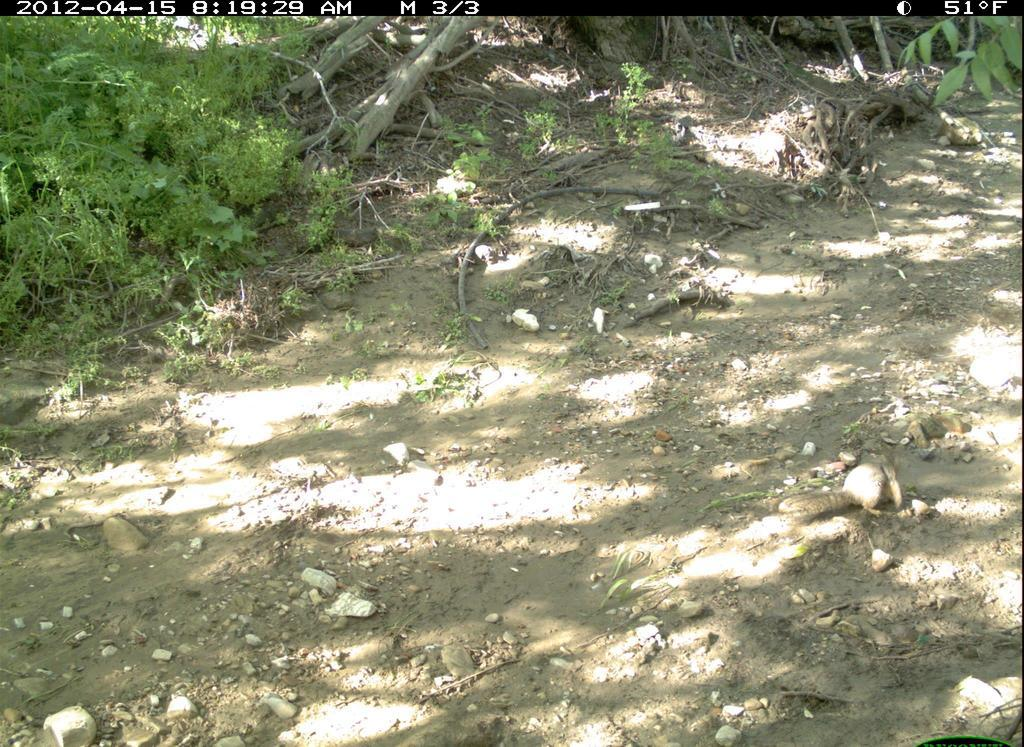squirrel: (770, 454, 913, 538)
